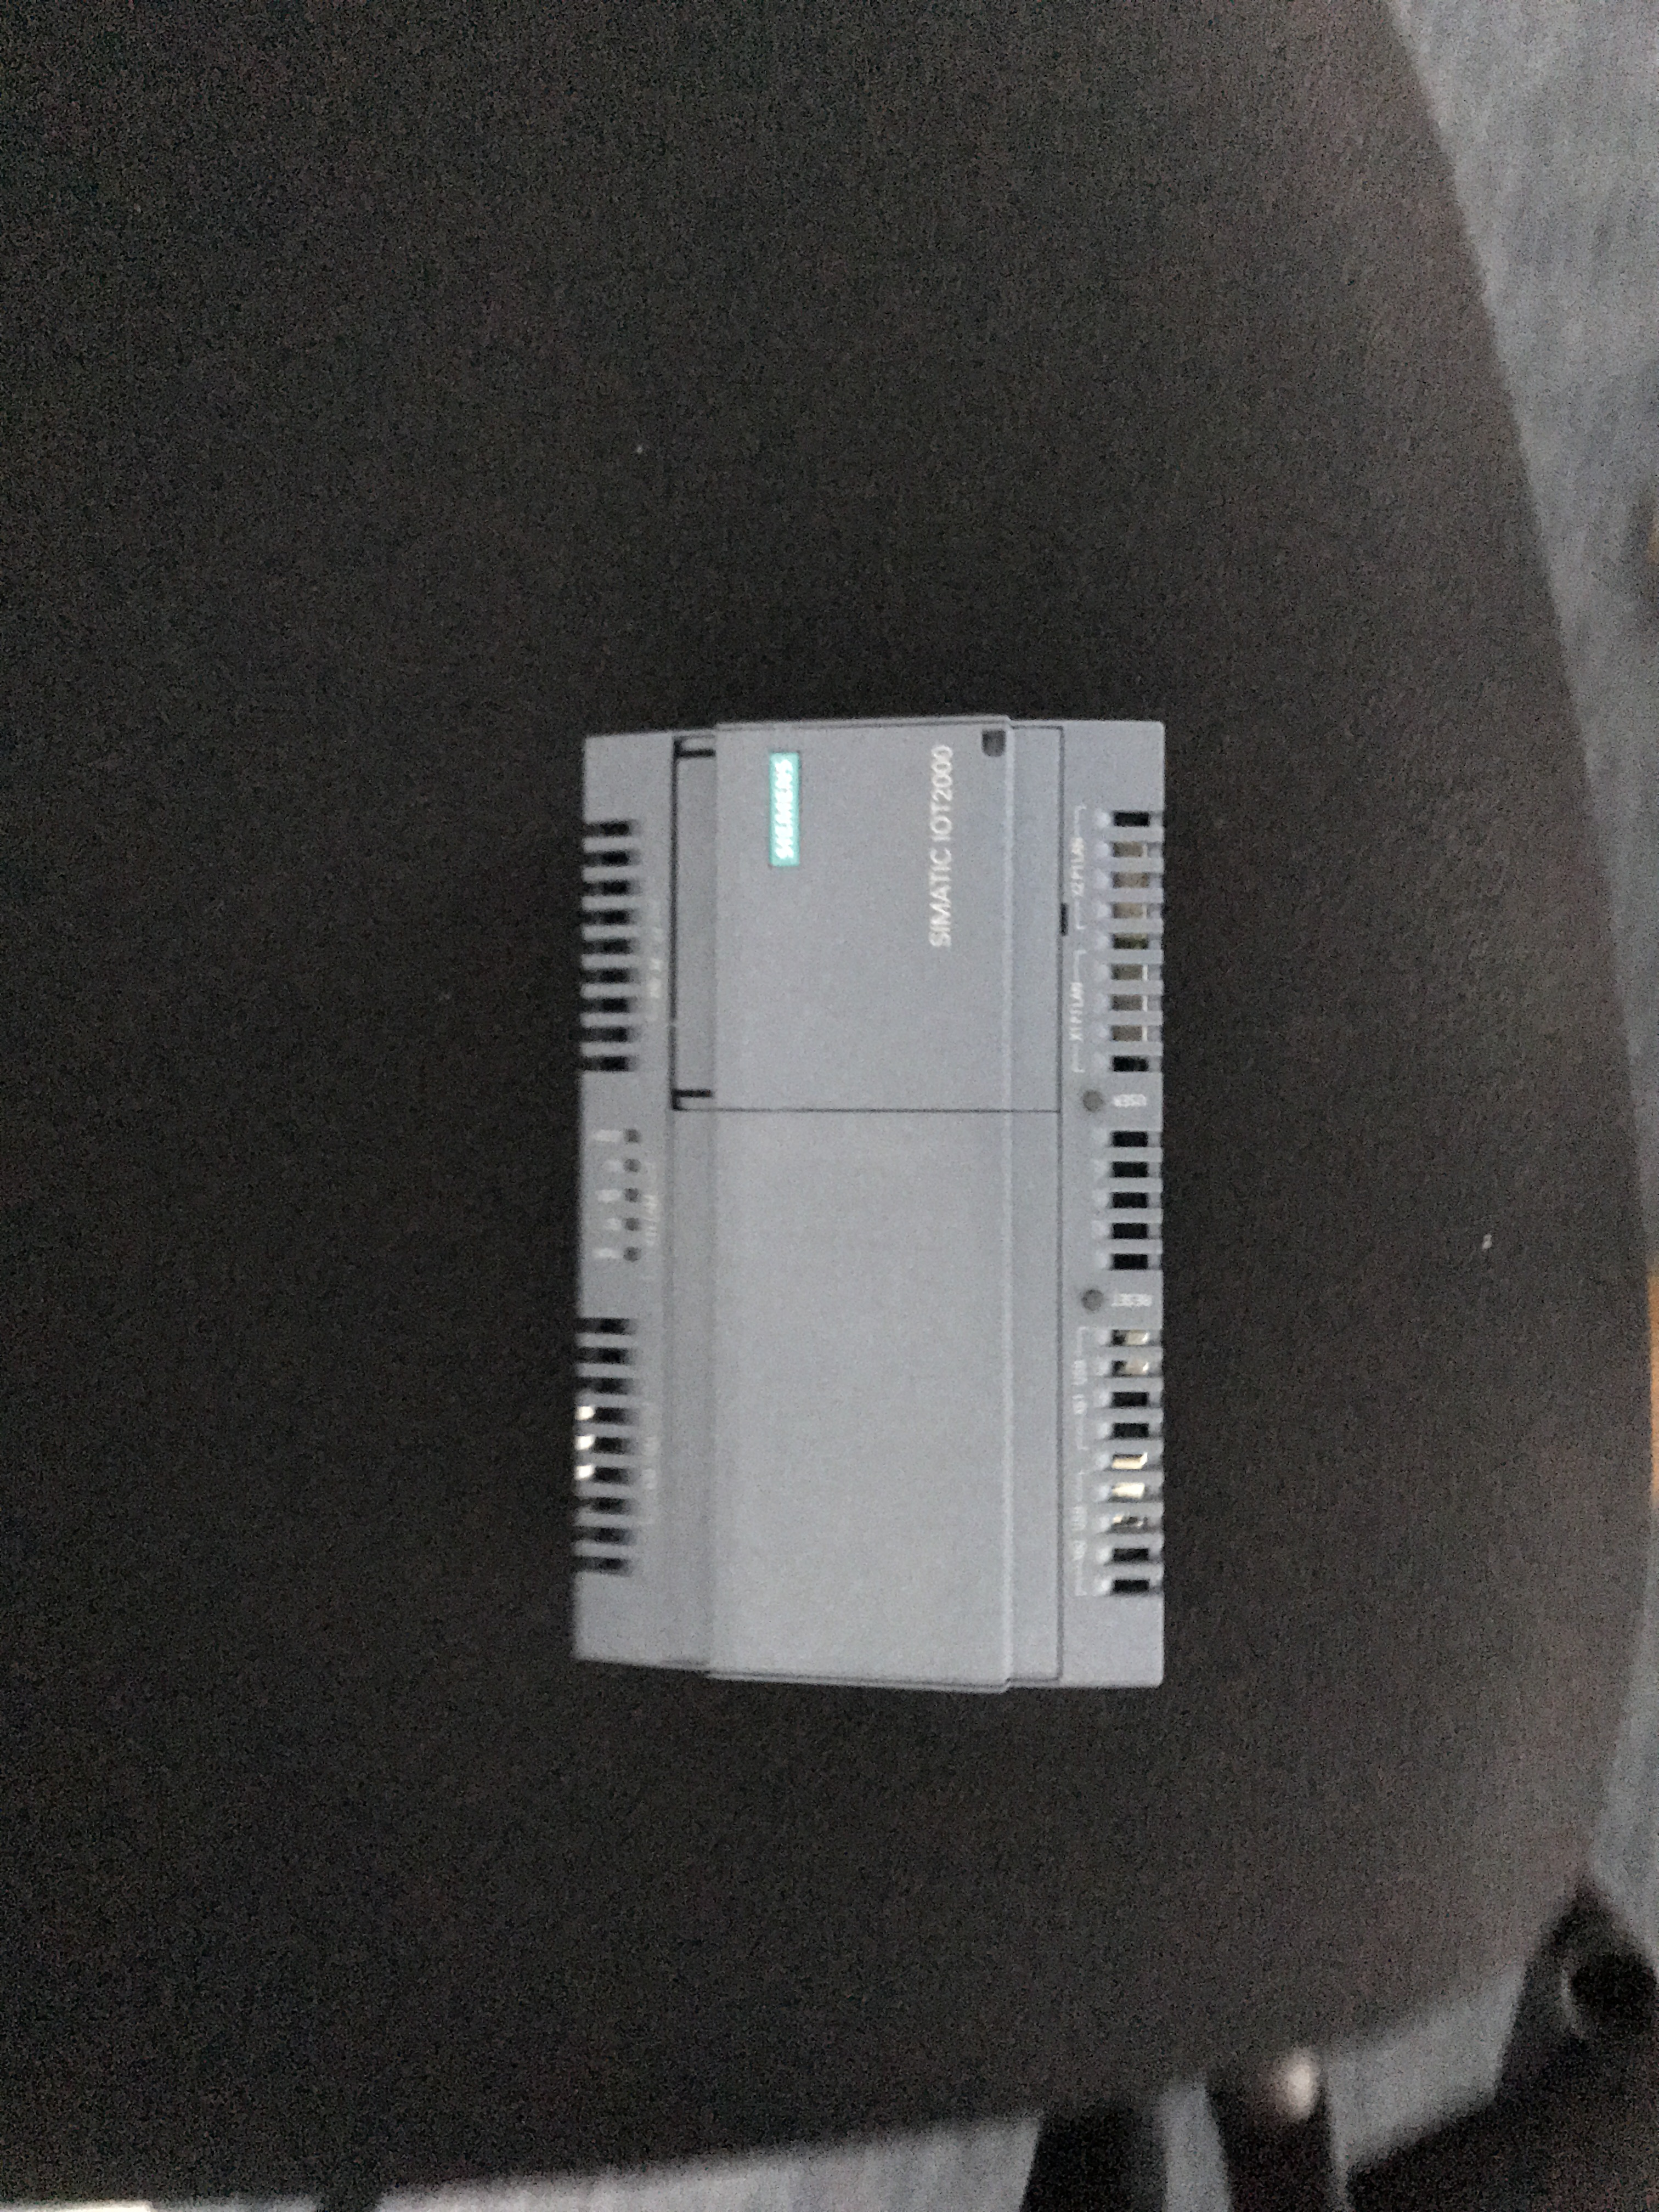device: (572, 712, 1166, 1696)
